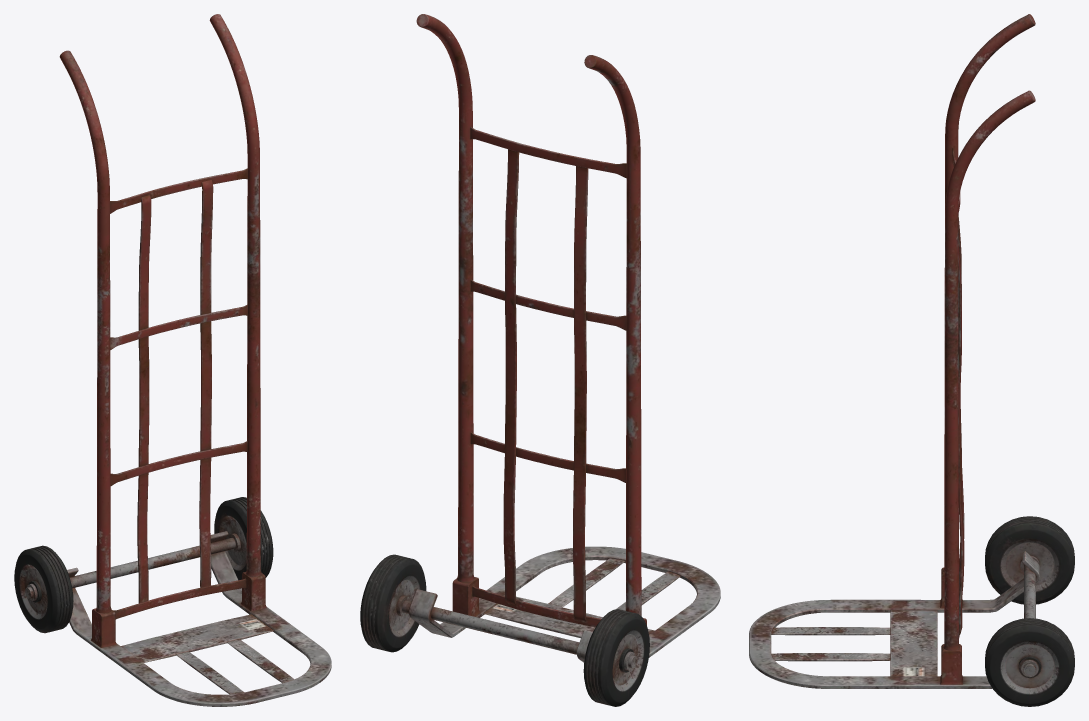
The model's file is hand_truck.glb.
The picture shows the model from 3 angles, left to right: view 1: azimuth 30°, elevation 25°; view 2: azimuth 150°, elevation 25°; view 3: azimuth 270°, elevation 25°; orthographic projection. The views are drawn at different scales.
Parts seen in each view (by area): view 1: hand_truck; view 2: hand_truck; view 3: hand_truck.
Boxes of the visible parts, x1,y1,x2,y2 form: hand_truck: [14, 14, 331, 706]; hand_truck: [360, 14, 720, 706]; hand_truck: [749, 14, 1074, 706].
Bounding box in the file's own units: 0.5933 × 1.4 × 0.6925.
1 material, 1 textured.
